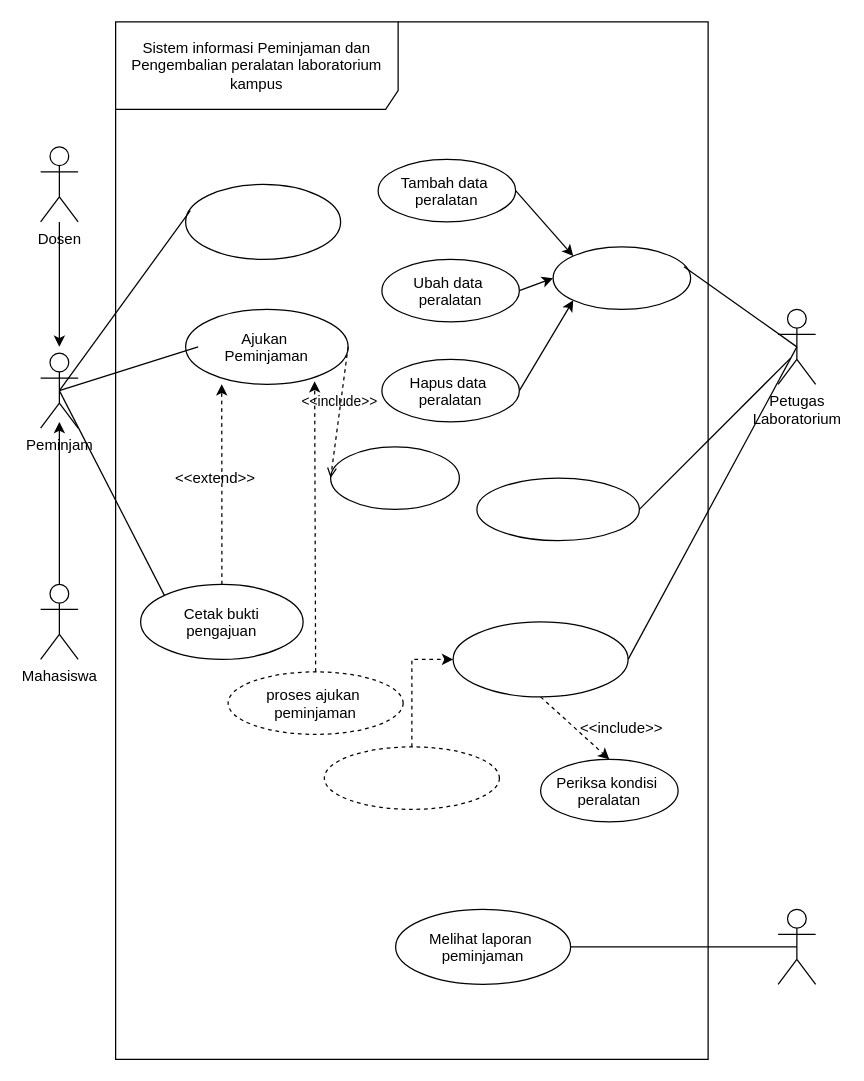
Some shapes in this 864 by 1081 pixel diagram are drawn without their labels. Each missing label, with the box of its shape:
catat pengembalian peralatan: (452, 621, 628, 697)
Kelola data peralatan: (552, 246, 691, 309)
kepala Laboratorium: (777, 908, 816, 984)
Lihat ketersediaan peralatan: (184, 183, 341, 259)
Memproses keputusan peminjaman: (476, 477, 639, 541)
Pemeriksa ketersediaan: (329, 446, 459, 509)
Proses catat pengembalian peralatan: (323, 746, 499, 809)
